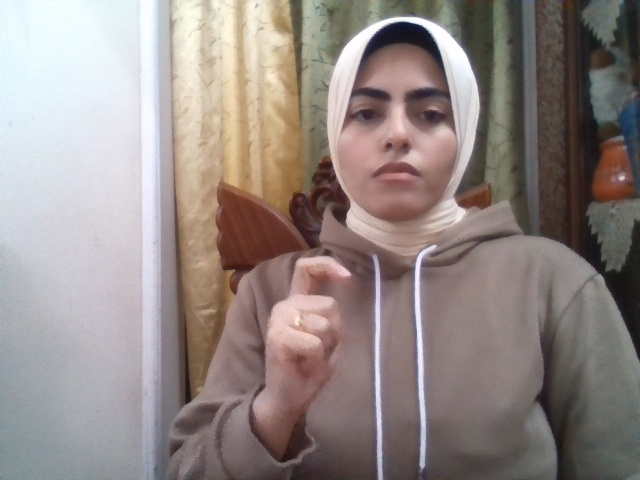X: (265, 256, 351, 408)
